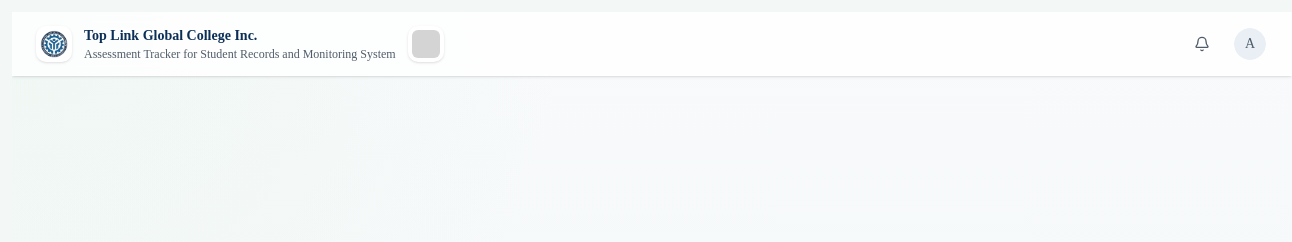
Scenario: Header logout › calls auth logout and redirects to login
Click the button named "admin user".
click(1250, 44)  # box [1232, 26, 1268, 62]
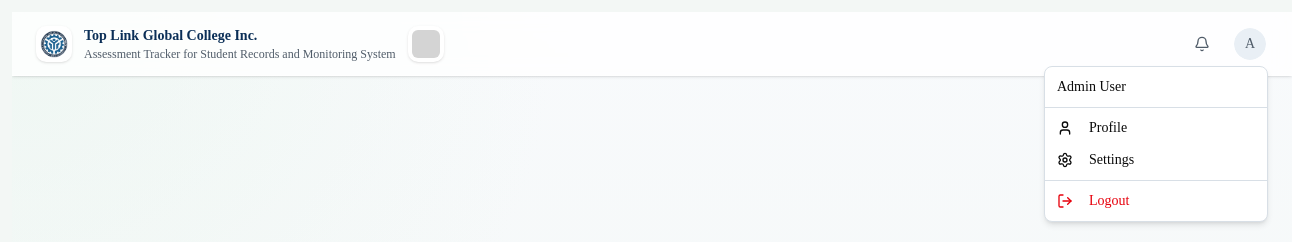
Click the menu item "Logout".
click(1093, 201)  # box [1057, 193, 1130, 209]
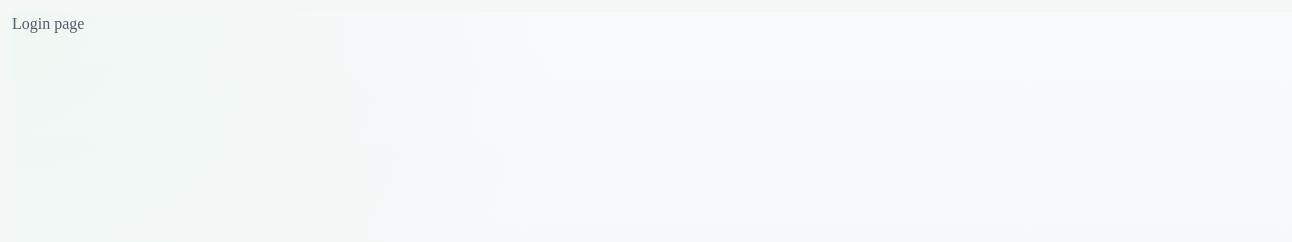
Result: the text "Login page" is shown at [12, 15, 84, 32]
